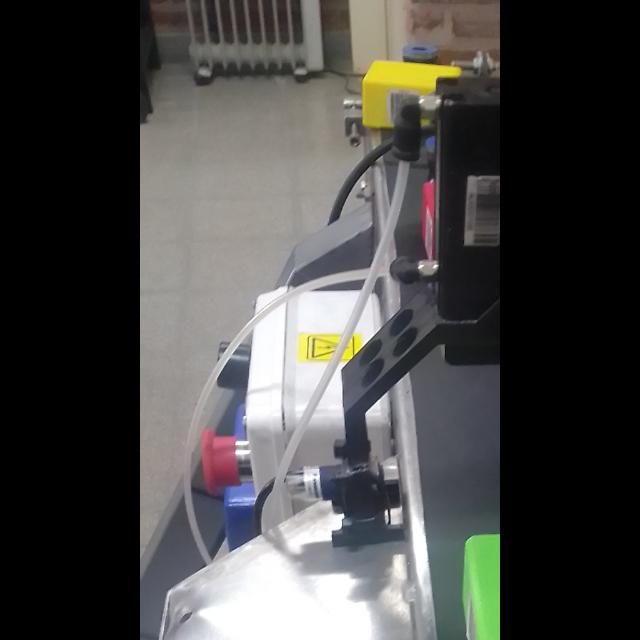greenBox: (446, 514, 499, 640)
